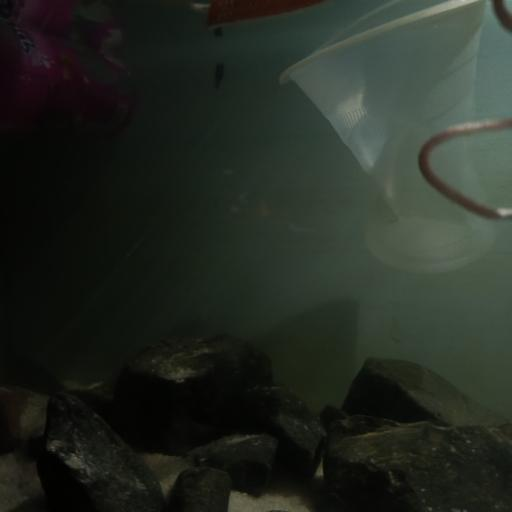mask: (417, 112, 512, 221)
plastic_bottle: (0, 22, 140, 146)
plastic_cup: (275, 4, 512, 271)
